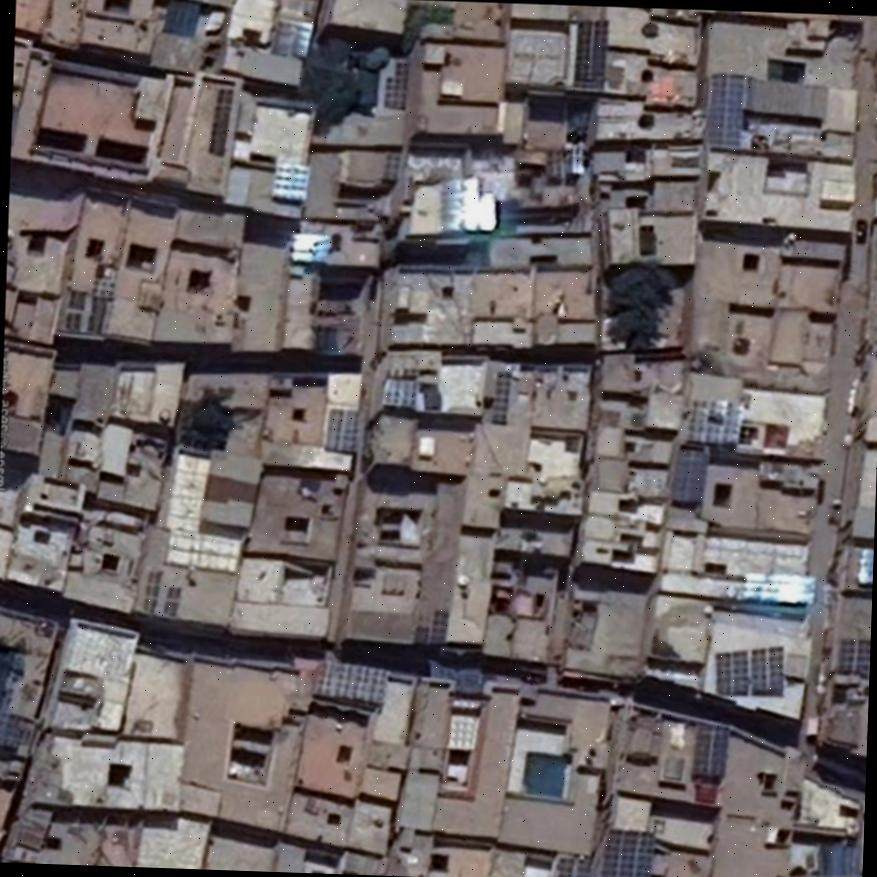Solarpanel: (314, 662, 390, 703), (716, 647, 782, 692), (599, 829, 654, 877), (742, 571, 818, 605), (708, 75, 744, 146), (689, 398, 742, 444), (574, 18, 610, 84), (691, 724, 728, 776), (672, 447, 708, 500), (325, 408, 364, 452), (209, 88, 232, 156), (273, 161, 311, 200), (381, 376, 418, 408), (838, 637, 870, 673), (385, 59, 408, 109), (63, 287, 87, 332), (491, 369, 509, 421), (87, 297, 108, 334), (558, 858, 588, 877), (0, 712, 15, 746)
